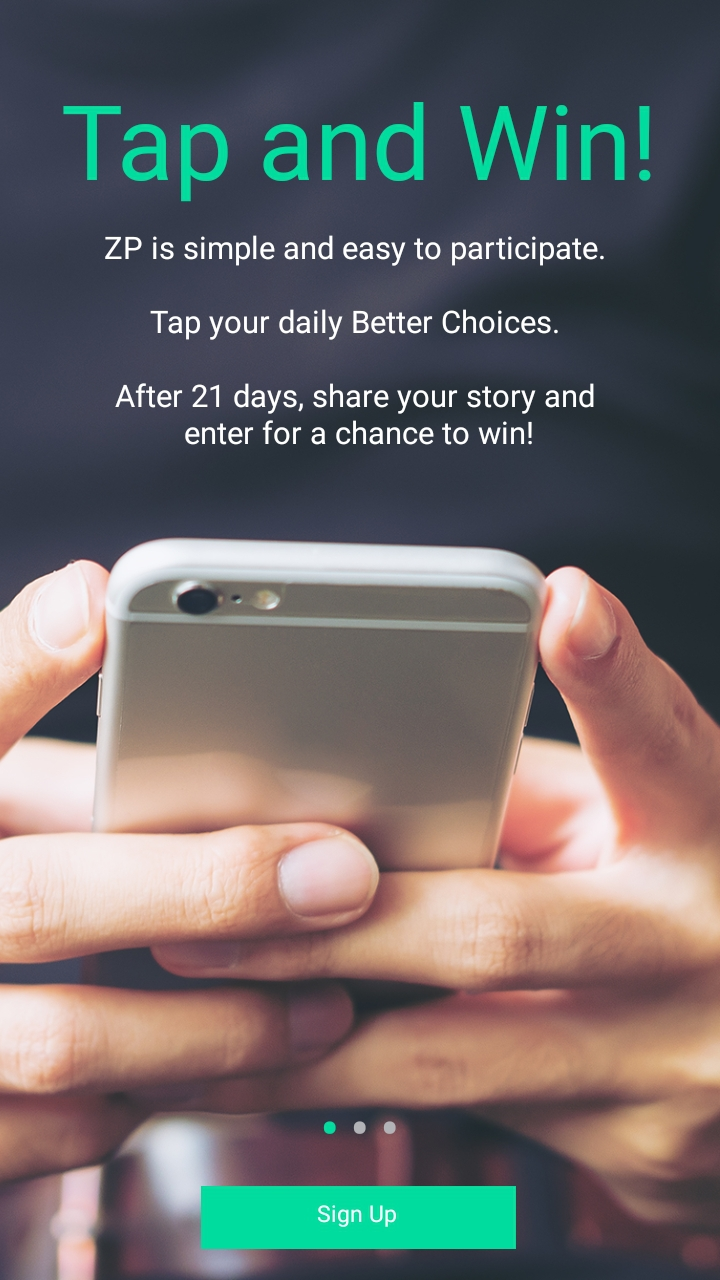BackgroundImage: (1, 1, 720, 1280)
PageIndicator: (323, 1120, 397, 1135)
Text: (64, 104, 650, 202), (114, 382, 594, 446), (105, 236, 605, 268), (150, 308, 559, 342)
TextButton: (200, 1186, 517, 1250)
